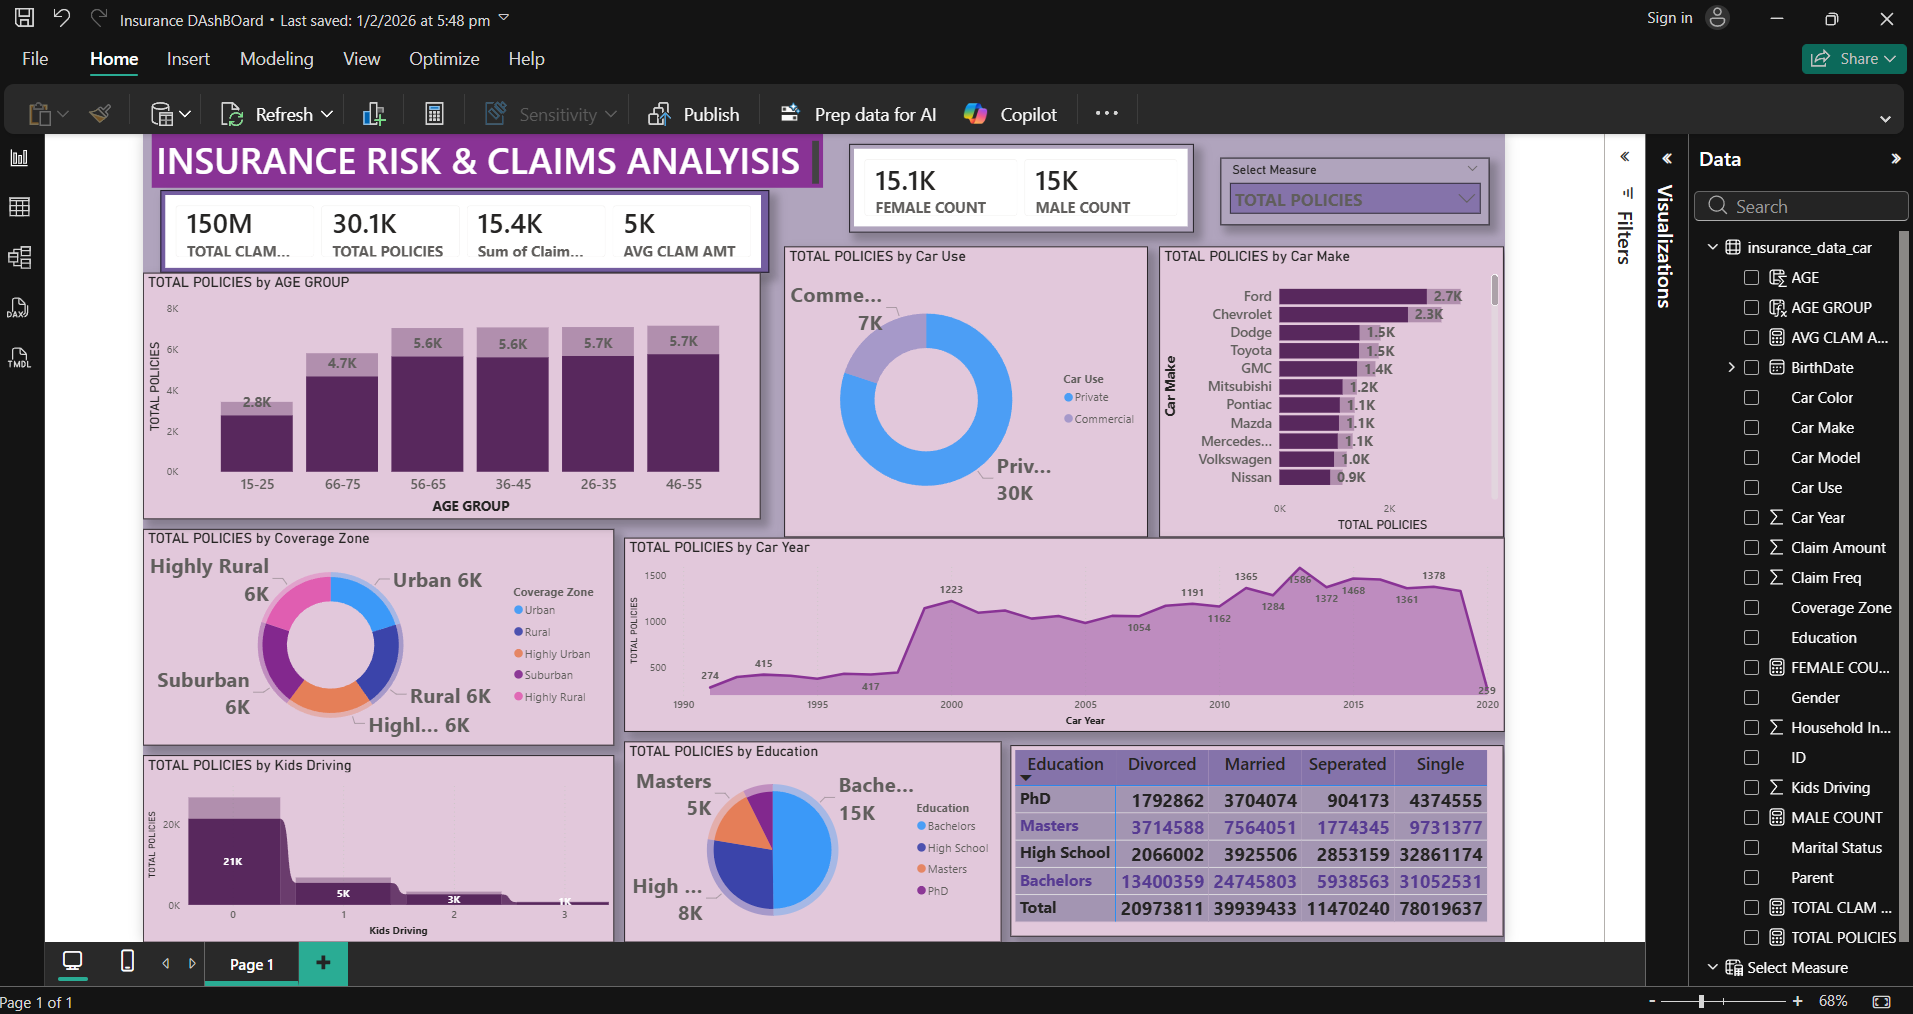

The dashboard page shown, as its layout file describes it:
{"tool":"powerbi","page":{"name":"Page 1","canvas":[1600,950],"ordinal":0},"visuals":[{"type":"textbox","box":[10.3,0,789,63.5],"z":0},{"type":"cardVisual","fields":{"Data":["insurance_data_car.TOTAL CLAM AMT","insurance_data_car.TOTAL POLICIES","Sum(insurance_data_car.Claim Freq)","insurance_data_car.AVG CLAM AMT"]},"box":[20.6,74.9,738.8,96.9],"z":1000},{"type":"cardVisual","fields":{"Data":["insurance_data_car.FEMALE COUNT","insurance_data_car.MALE COUNT"]},"box":[830.5,11.3,404.7,103.6],"z":2000},{"type":"slicer","fields":{"Values":["Select Measure.Select Measure"]},"box":[1266,27.5,316,79],"z":3000},{"type":"donutChart","fields":{"Y":["insurance_data_car.TOTAL POLICIES"],"Category":["insurance_data_car.Car Use"]},"box":[774,132.2,415.7,333.4],"z":4000},{"type":"barChart","fields":{"Y":["insurance_data_car.TOTAL POLICIES"],"Category":["insurance_data_car.Car Make"]},"box":[1204.5,132.8,395,333.5],"z":5000},{"type":"donutChart","fields":{"Y":["insurance_data_car.TOTAL POLICIES"],"Category":["insurance_data_car.Coverage Zone"]},"box":[0,450.1,553.7,275.2],"z":6000},{"type":"clusteredColumnChart","fields":{"Y":["insurance_data_car.TOTAL POLICIES"],"Category":["insurance_data_car.AGE GROUP"]},"box":[0,180.7,759.4,257],"z":7000},{"type":"ribbonChart","fields":{"Y":["insurance_data_car.TOTAL POLICIES"],"Category":["insurance_data_car.Kids Driving"]},"box":[0,739.9,553.7,210.5],"z":8000},{"type":"areaChart","fields":{"Y":["insurance_data_car.TOTAL POLICIES"],"Category":["insurance_data_car.Car Year"]},"box":[565.5,474.4,1034,229.1],"z":9000},{"type":"pieChart","fields":{"Y":["insurance_data_car.TOTAL POLICIES"],"Category":["insurance_data_car.Education"]},"box":[565,714,443.6,236.4],"z":10000},{"type":"pivotTable","fields":{"Rows":["insurance_data_car.Education"],"Columns":["insurance_data_car.Marital Status"],"Values":["insurance_data_car.TOTAL CLAM AMT"]},"box":[1019.9,718.8,579.6,225],"z":11000}]}

Visuals, with their boxes on the page's 1600x950 design canvas (x1, y1, x2, y2). These are canvas units, not pixel positions in the 1913x1014 screenshot, which may show the page scaled, cropped or inside an application window:
textbox: crop(10, 0, 799, 64)
cardVisual - insurance_data_car.TOTAL CLAM AMT x insurance_data_car.TOTAL POLICIES: crop(21, 75, 759, 172)
cardVisual - insurance_data_car.FEMALE COUNT x insurance_data_car.MALE COUNT: crop(830, 11, 1235, 115)
slicer - Select Measure.Select Measure: crop(1266, 28, 1582, 106)
donutChart - insurance_data_car.TOTAL POLICIES x insurance_data_car.Car Use: crop(774, 132, 1190, 466)
barChart - insurance_data_car.TOTAL POLICIES x insurance_data_car.Car Make: crop(1204, 133, 1600, 466)
donutChart - insurance_data_car.TOTAL POLICIES x insurance_data_car.Coverage Zone: crop(0, 450, 554, 725)
clusteredColumnChart - insurance_data_car.TOTAL POLICIES x insurance_data_car.AGE GROUP: crop(0, 181, 759, 438)
ribbonChart - insurance_data_car.TOTAL POLICIES x insurance_data_car.Kids Driving: crop(0, 740, 554, 950)
areaChart - insurance_data_car.TOTAL POLICIES x insurance_data_car.Car Year: crop(566, 474, 1600, 704)
pieChart - insurance_data_car.TOTAL POLICIES x insurance_data_car.Education: crop(565, 714, 1009, 950)
pivotTable - insurance_data_car.Education x insurance_data_car.Marital Status: crop(1020, 719, 1600, 944)
